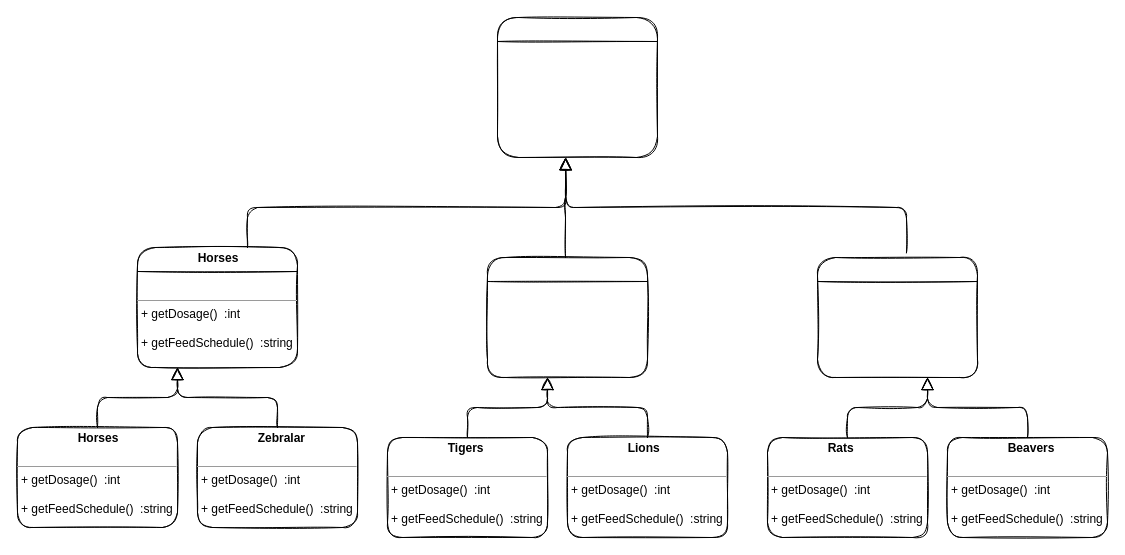
Some shapes in this 1125 by 555 pixel diagram are drawn without their labels. Each missing label, with the box of its shape:
Animals Type Weight getDosage() :int getFeedSchedule() :string: (496, 16, 658, 158)
Felines + getDosage() :int + getFeedSchedule() :string: (486, 256, 648, 378)
Rodents + getDosage() :int + getFeedSchedule() :string: (816, 256, 978, 378)
